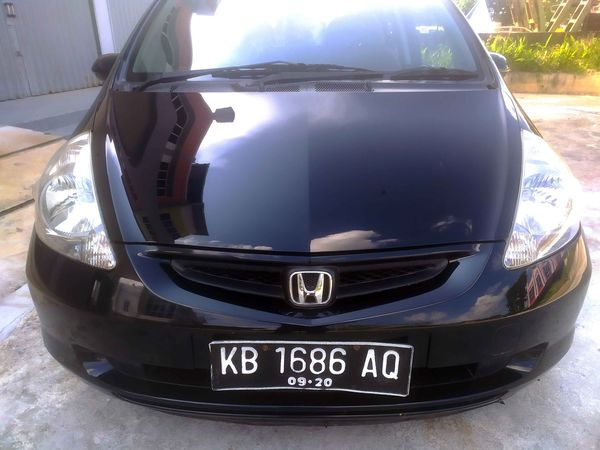plate: (208, 340, 417, 400)
